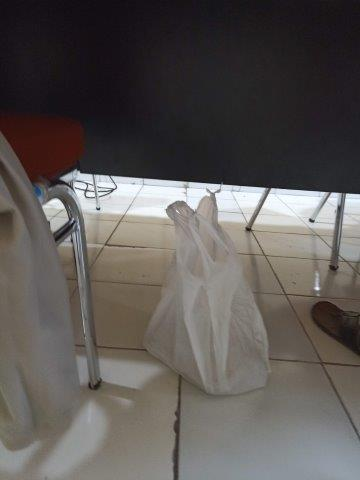plastik: (146, 195, 270, 396)
